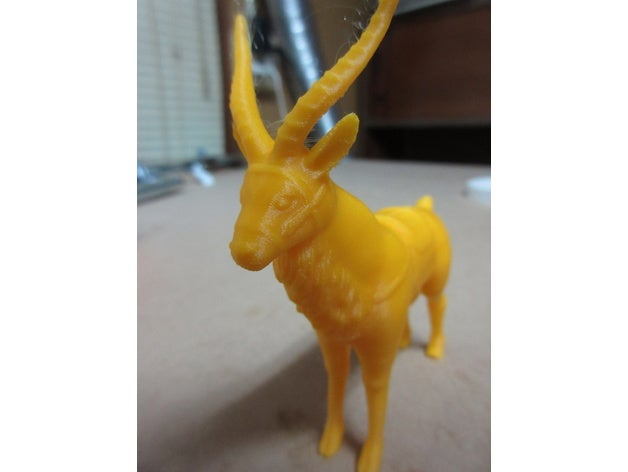Good: (206, 12, 486, 472)
